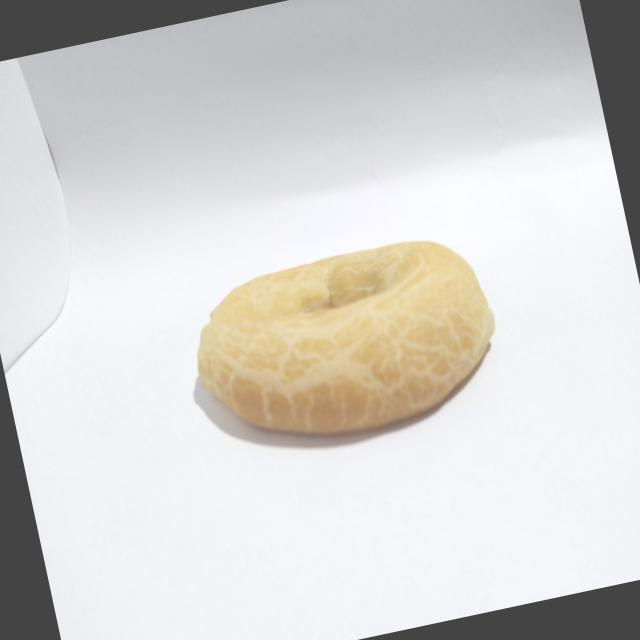Chipa: (174, 214, 519, 482)
